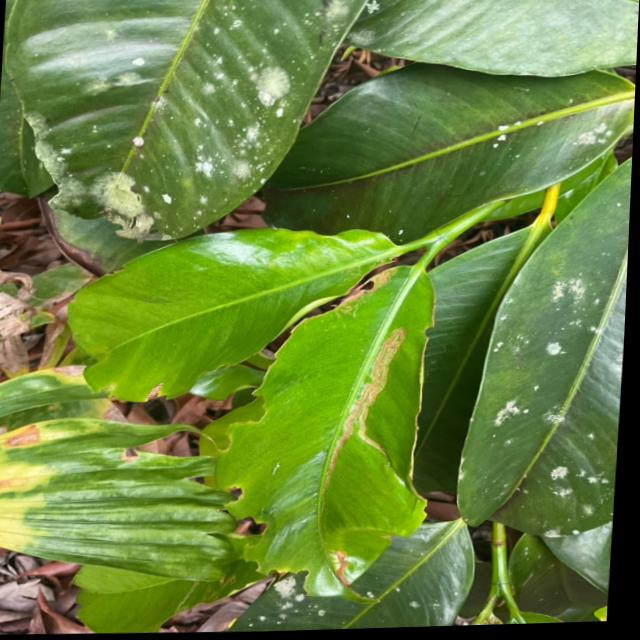Leaf Spot: (139, 6, 324, 226), (512, 276, 630, 475), (249, 572, 425, 634)
